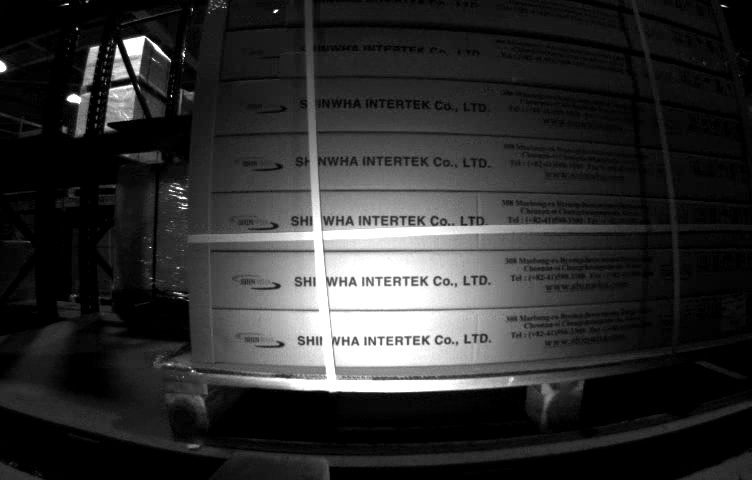True Barcode: (717, 288, 752, 335)
